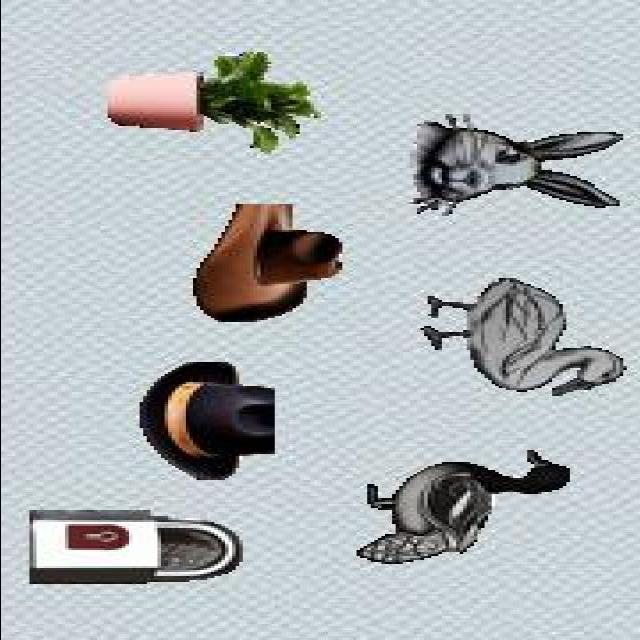Other Objects: (354, 450, 571, 564), (418, 277, 624, 396), (105, 51, 320, 154), (190, 204, 344, 322), (134, 361, 274, 480), (27, 509, 245, 584)
